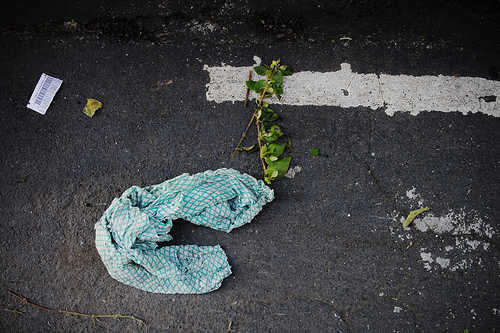litter: (91, 169, 277, 293), (26, 73, 62, 118)
